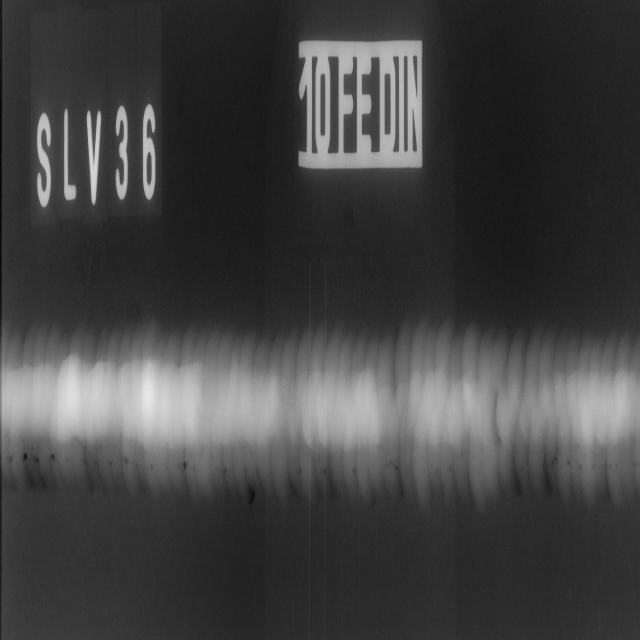FF: (3, 416, 528, 508)
